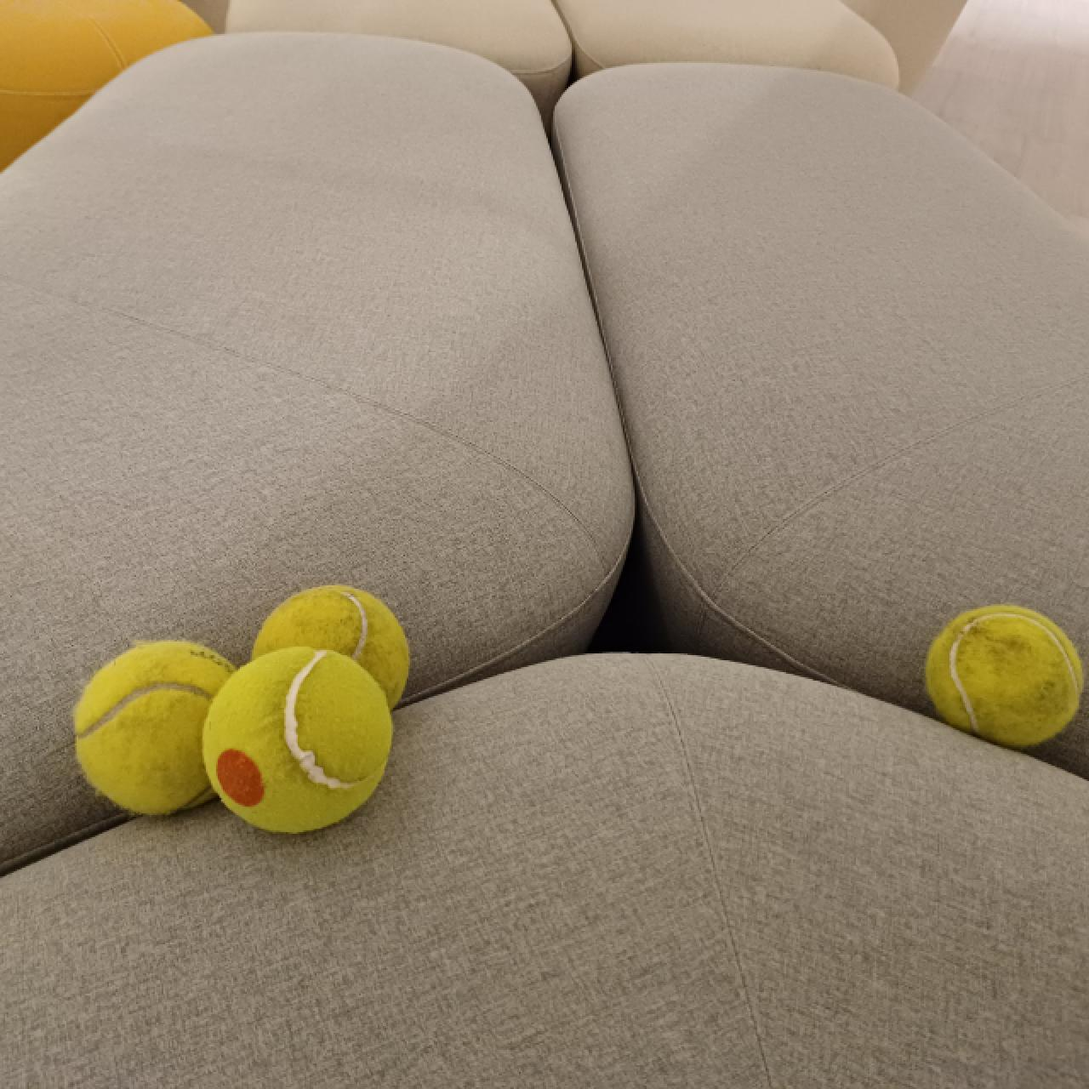tennis-ball: (200, 643, 396, 837), (71, 634, 249, 821), (246, 582, 414, 728), (922, 600, 1086, 747)
